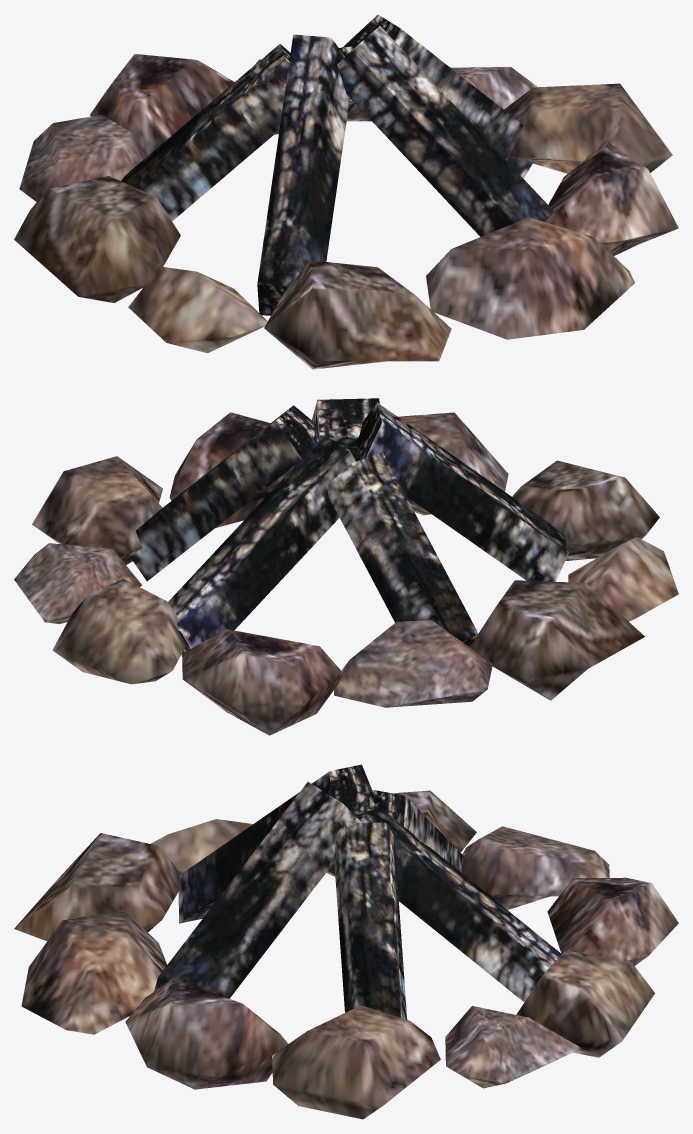
File: m_ochag2.glb
The picture shows the model from 3 angles, top to bottom: view 1: azimuth 30°, elevation 25°; view 2: azimuth 150°, elevation 25°; view 3: azimuth 270°, elevation 25°; orthographic projection. The views are drawn at different scales.
Parts seen in each view (by area): view 1: m_ochag2; view 2: m_ochag2; view 3: m_ochag2.
Part boxes in pixels (bbox=[...]): m_ochag2: bbox=[14, 14, 678, 369]; m_ochag2: bbox=[14, 398, 678, 735]; m_ochag2: bbox=[14, 764, 678, 1119].
Bounding box in the file's own units: 0.8418 × 0.3026 × 0.8417.
Materials: 2 (2 with a texture image).
